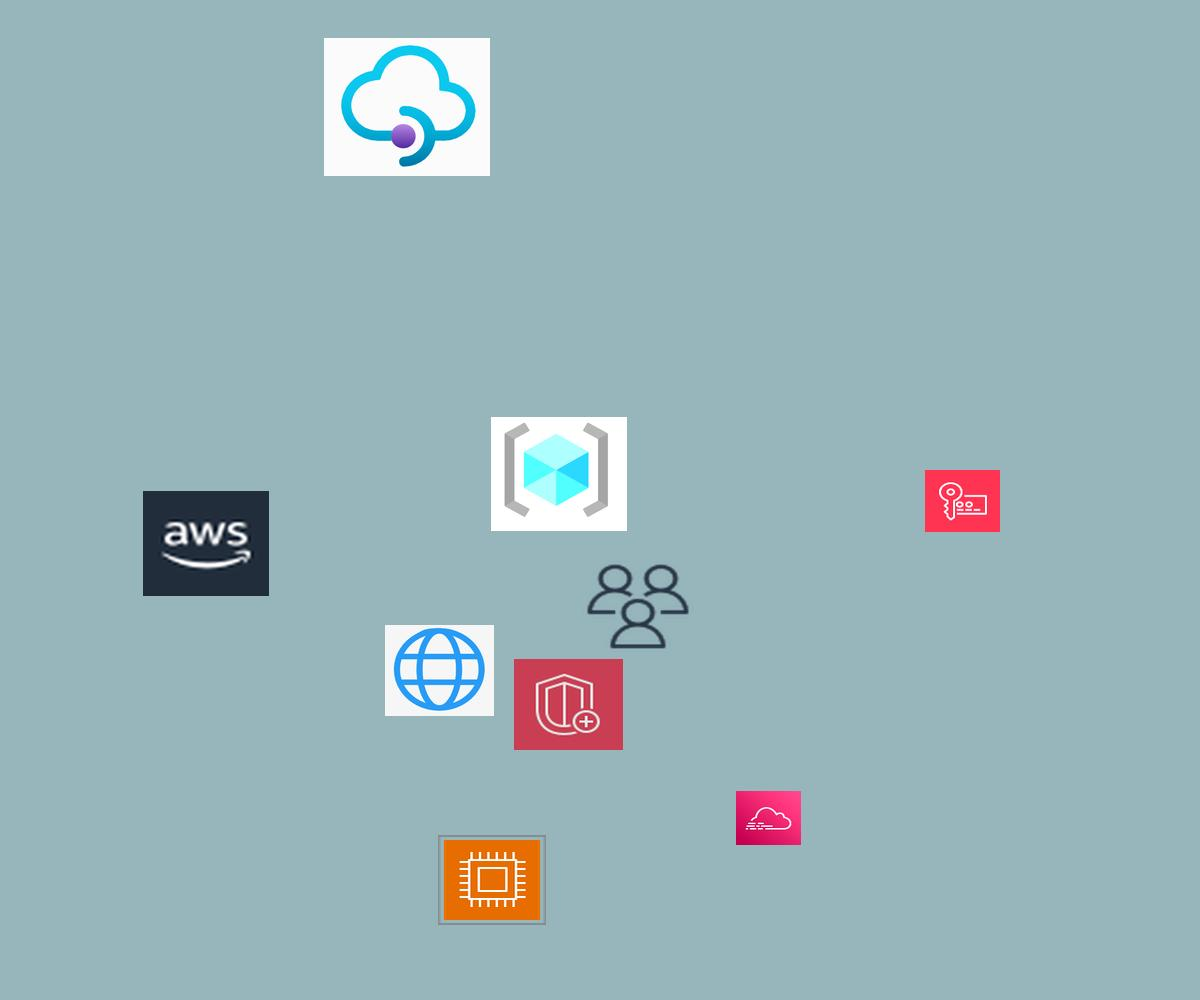AWS-Category_Compute: (438, 835, 546, 925)
AWS-Cloud-logo: (143, 491, 269, 596)
AWS-CloudTrail: (736, 791, 801, 845)
AWS-Key-Management-Service: (925, 470, 1000, 532)
AWS-Res_Users: (583, 561, 693, 652)
AWS-Shield: (514, 659, 623, 750)
Azure_api_gateway: (324, 38, 490, 176)
Azure_http: (385, 625, 494, 716)
Azure_resource_group: (491, 417, 627, 531)
